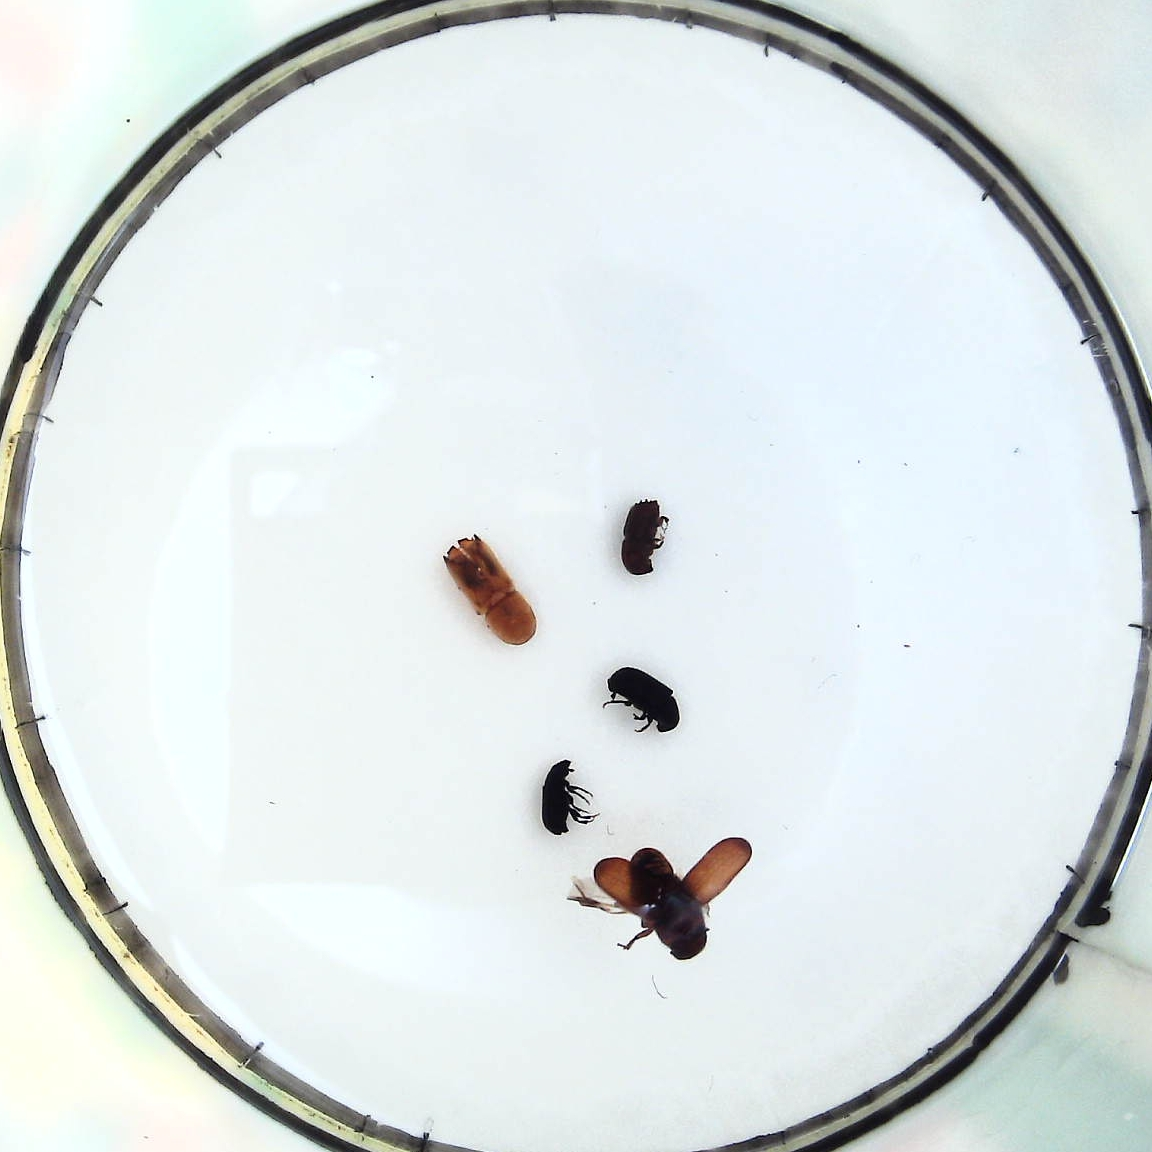Boerner: (439, 533, 539, 649)
Leconte: (591, 836, 745, 960)
Linnaeus: (619, 496, 663, 578)
armandi: (603, 664, 685, 732)
coleoptera: (534, 760, 587, 836)
